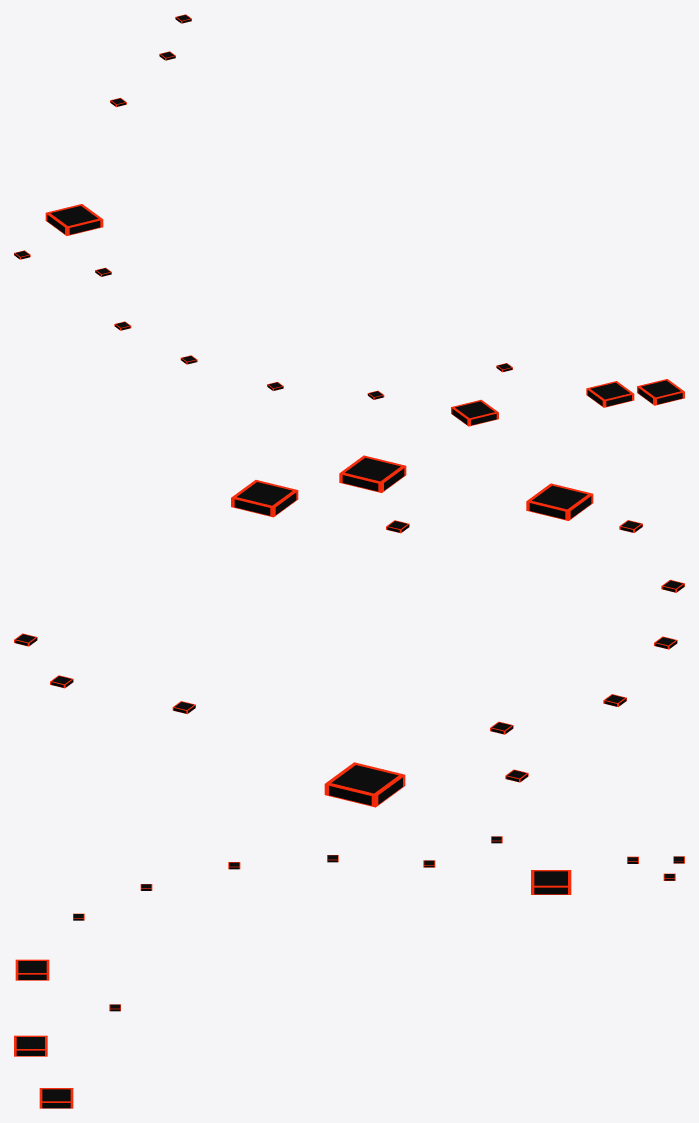
File: park1.glb
3 views of the same model, one above another, from view 1: azimuth 30°, elevation 25°; view 2: azimuth 150°, elevation 25°; view 3: azimuth 270°, elevation 25° (orthographic). The views are drawn at different scales.
Parts seen in each view (by area): view 1: park1, moving1; view 2: park1, moving1; view 3: park1, moving1.
Part boxes in pixels (x1=…): park1: x1=14, y1=14, x2=684, y2=426; moving1: x1=45, y1=204, x2=103, y2=235; park1: x1=14, y1=455, x2=684, y2=782; moving1: x1=324, y1=762, x2=405, y2=807; park1: x1=14, y1=836, x2=684, y2=1108; moving1: x1=531, y1=870, x2=571, y2=894.
Size of what is drawn, in the model's own units: 27.31 by 10.8 by 38.41.
